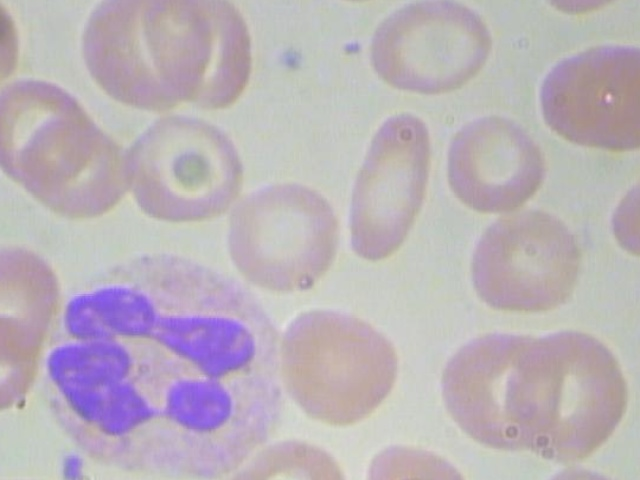Platelets: (271, 40, 310, 77), (54, 446, 86, 480)
RBC: (503, 318, 640, 463), (273, 299, 411, 431), (59, 0, 208, 115), (113, 110, 257, 224), (343, 104, 437, 271), (457, 207, 587, 323), (521, 29, 640, 155), (356, 0, 501, 102), (223, 181, 350, 297), (147, 0, 258, 115), (437, 114, 552, 221), (0, 77, 92, 182), (0, 234, 63, 357), (0, 310, 48, 418)
WBC: (38, 246, 304, 480)
